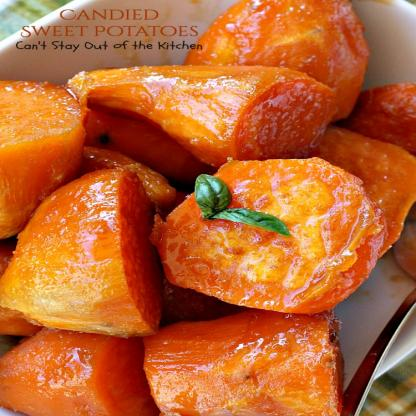---: (127, 155, 409, 311), (8, 159, 182, 334), (52, 58, 335, 157)
